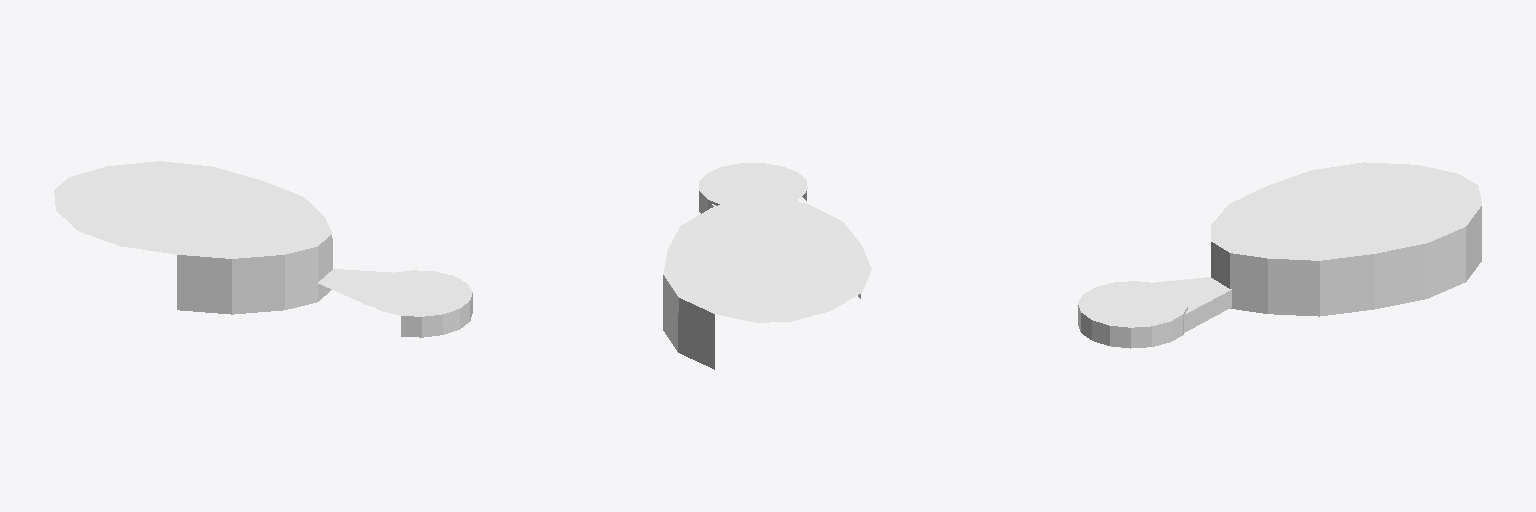
The model's file is Chan_Center.obj.
3 renders of one model, left to right at view 1: azimuth 30°, elevation 25°; view 2: azimuth 150°, elevation 25°; view 3: azimuth 270°, elevation 25°, orthographic.
Parts seen in each view (by area): view 1: Chan_Center_1_Mesh.001; view 2: Chan_Center_1_Mesh.001; view 3: Chan_Center_1_Mesh.001.
Boxes of the visible parts, x1,y1,x2,y2 form: Chan_Center_1_Mesh.001: [54, 161, 472, 337]; Chan_Center_1_Mesh.001: [663, 163, 871, 369]; Chan_Center_1_Mesh.001: [1078, 162, 1481, 348].
Size of the model in its own units: 0.0578 by 0.0114 by 0.0743.